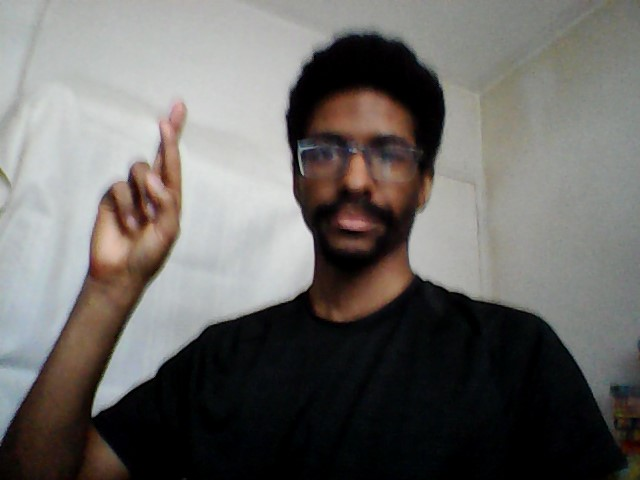r: (85, 98, 195, 292)
